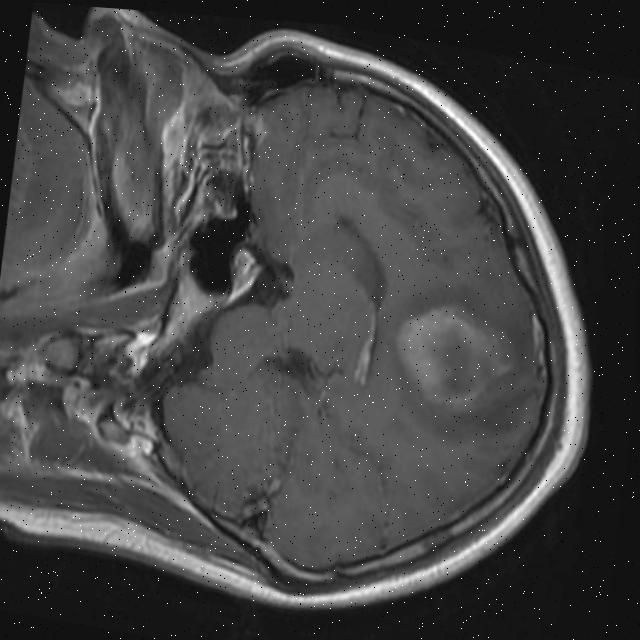Glioma: (385, 294, 529, 422)
